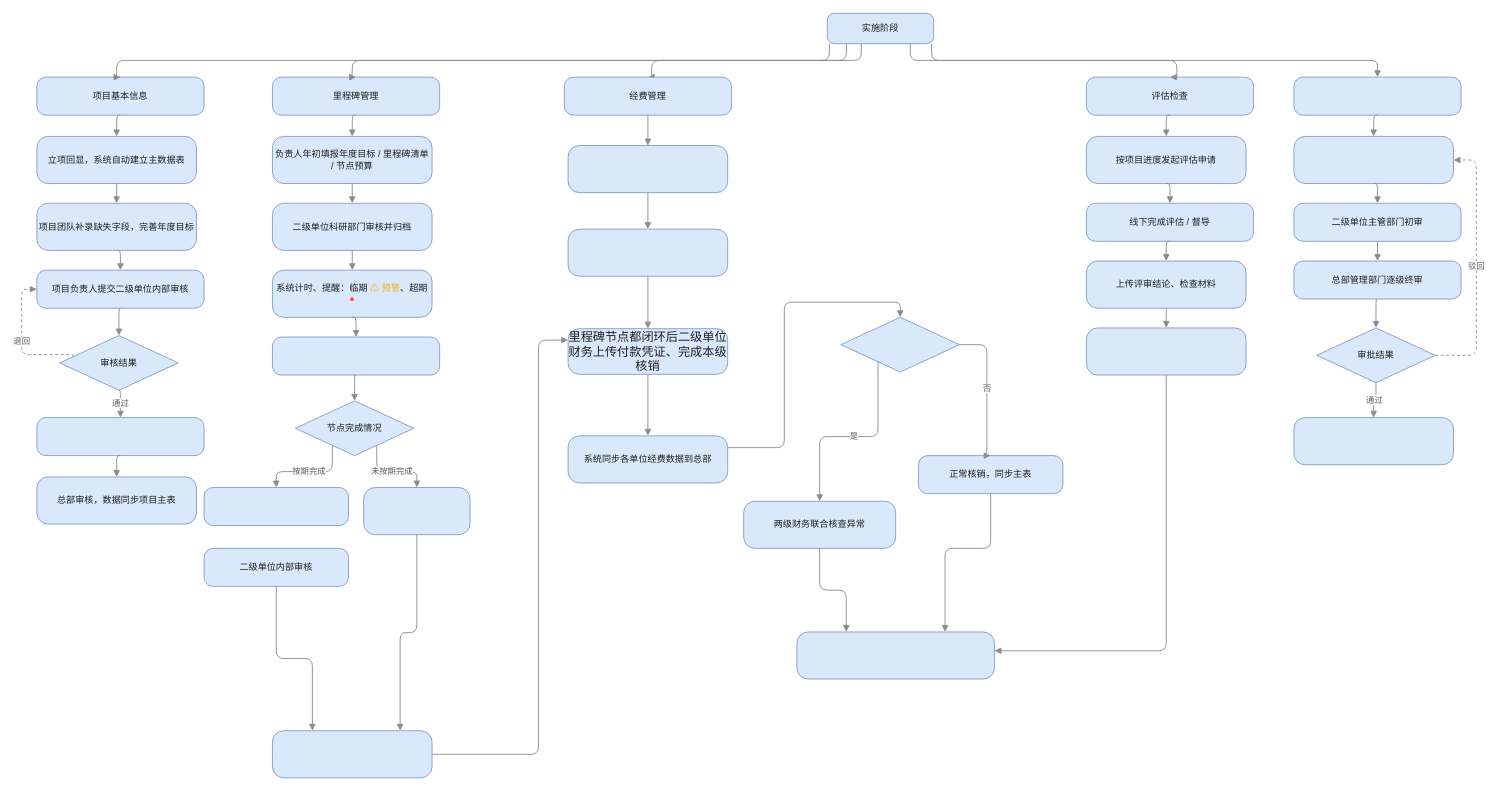
This 1497x791 diagram has some shape labels left out. The shapes that lost their labels are listed below. From the top down, each one's centre as x and y in pixels, then its label:
At (x=1377, y=95): "项目变更".
At (x=647, y=169): "负责人填报里程碑对应经费预算".
At (x=1373, y=160): "填报变更内容、说明、支撑材料".
At (x=647, y=252): "二级财务审核 → 总部财务预算拨款备案".
At (x=356, y=355): "里程碑节点到期".
At (x=900, y=344): "数据是否异常？".
At (x=1166, y=351): "线上归档，进度同步主表".
At (x=120, y=436): "总部科研项目处备案".
At (x=1373, y=441): "变更生效，更新业务数据".
At (x=275, y=506): "节点1：负责人，上传销项信息和凭证".
At (x=416, y=511): "标红无法闭环，延期需走【项目变更】".
At (x=895, y=655): "实施阶段完结，进入验收阶段".
At (x=352, y=754): "该里程碑闭环验收合格".
